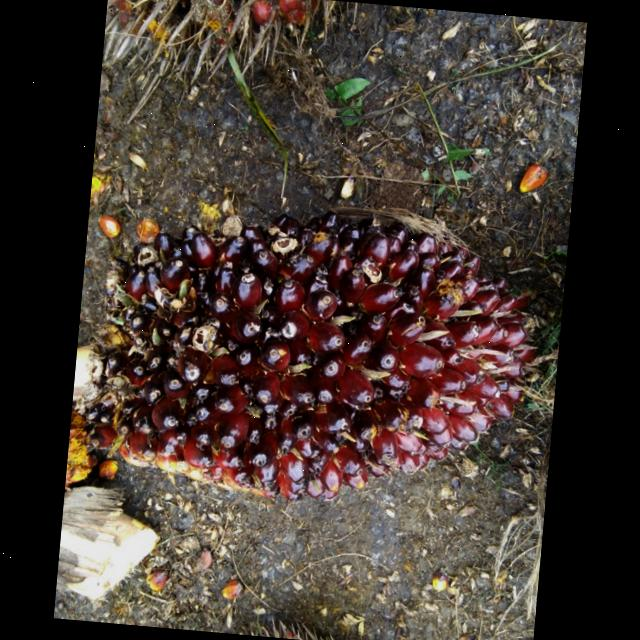Ripe: (67, 214, 532, 503)
